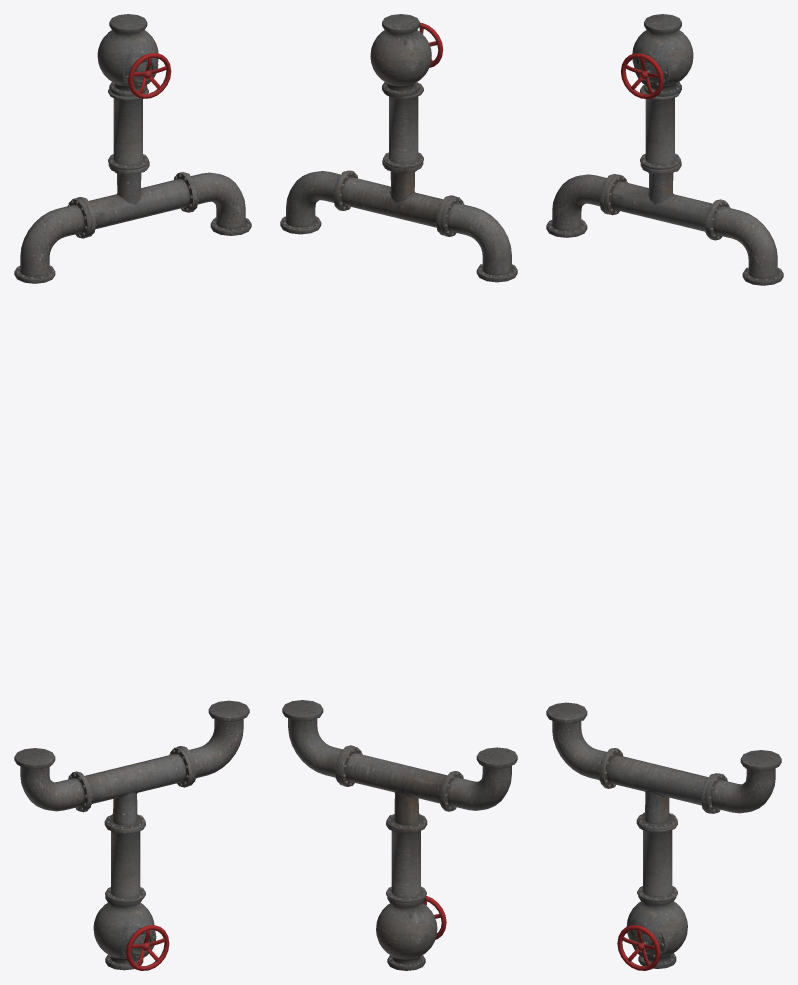
File: tubos2.fbx
3 views of the same model, side by side, from view 1: azimuth 30°, elevation 25°; view 2: azimuth 150°, elevation 25°; view 3: azimuth 330°, elevation 25° (orthographic).
Parts seen in each view (by area): view 1: Object032, Object005, Object009, Modular_Pipes002, Object028, Object029, Modular_Pipes005, Object022, Object033, Object031, Object020, Object030; view 2: Object032, Object005, Modular_Pipes002, Modular_Pipes005, Object009, Object028, Object029, Object022, Object033, Object031; view 3: Object032, Object005, Object022, Modular_Pipes002, Object029, Object028, Object009, Modular_Pipes005, Object033, Object031, Object030, Object020.
Boxes of the visible parts, left/top/right/bottom form: Object032: left=79, top=747, right=193, bottom=833; Object005: left=77, top=161, right=197, bottom=237; Object009: left=14, top=198, right=91, bottom=283; Modular_Pipes002: left=97, top=14, right=158, bottom=96; Object028: left=14, top=748, right=91, bottom=811; Object029: left=177, top=700, right=249, bottom=785; Modular_Pipes005: left=93, top=895, right=154, bottom=970; Object022: left=183, top=172, right=251, bottom=235; Object033: left=108, top=88, right=148, bottom=170; Object031: left=105, top=823, right=145, bottom=903; Object020: left=122, top=53, right=171, bottom=98; Object030: left=121, top=925, right=169, bottom=970; Object032: left=338, top=746, right=453, bottom=833; Object005: left=334, top=160, right=455, bottom=235; Modular_Pipes002: left=370, top=14, right=431, bottom=97; Modular_Pipes005: left=376, top=897, right=437, bottom=970; Object009: left=440, top=196, right=517, bottom=282; Object028: left=440, top=747, right=517, bottom=811; Object029: left=282, top=700, right=354, bottom=785; Object022: left=280, top=170, right=348, bottom=234; Object033: left=383, top=83, right=423, bottom=168; Object031: left=386, top=822, right=426, bottom=902; Object032: left=600, top=749, right=717, bottom=831; Object005: left=603, top=161, right=723, bottom=238; Object022: left=706, top=200, right=783, bottom=285; Modular_Pipes002: left=632, top=14, right=693, bottom=96; Object029: left=704, top=750, right=781, bottom=813; Object028: left=546, top=702, right=620, bottom=782; Object009: left=546, top=174, right=618, bottom=237; Modular_Pipes005: left=626, top=896, right=687, bottom=968; Object033: left=640, top=85, right=680, bottom=169; Object031: left=637, top=822, right=677, bottom=902; Object030: left=617, top=925, right=668, bottom=970; Object020: left=621, top=53, right=670, bottom=98.
Bounding box in the file's own units: 29 × 112 × 8.31.
